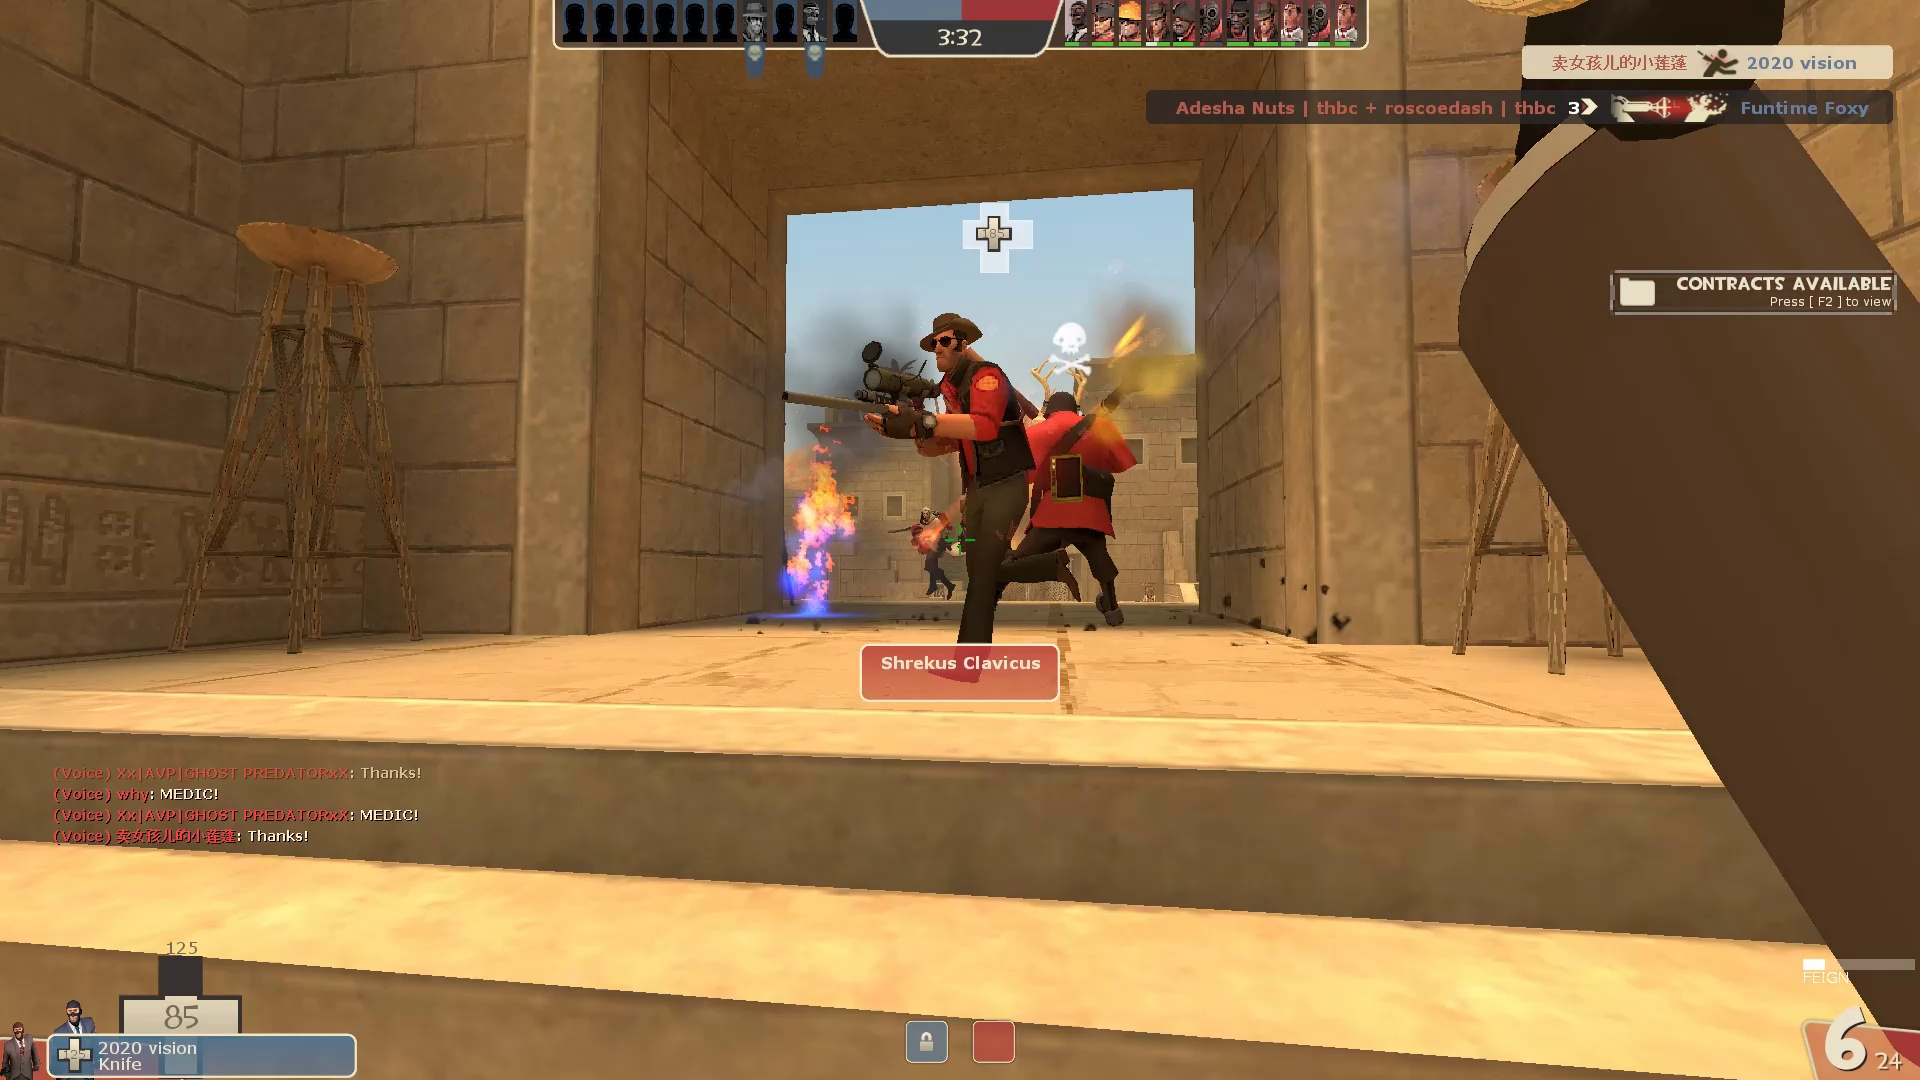blu_spy_invisible_fire: (775, 458, 864, 616)
red_medic: (909, 500, 967, 603)
red_sniper: (761, 306, 1083, 698)
red_soldier: (996, 371, 1145, 630)
